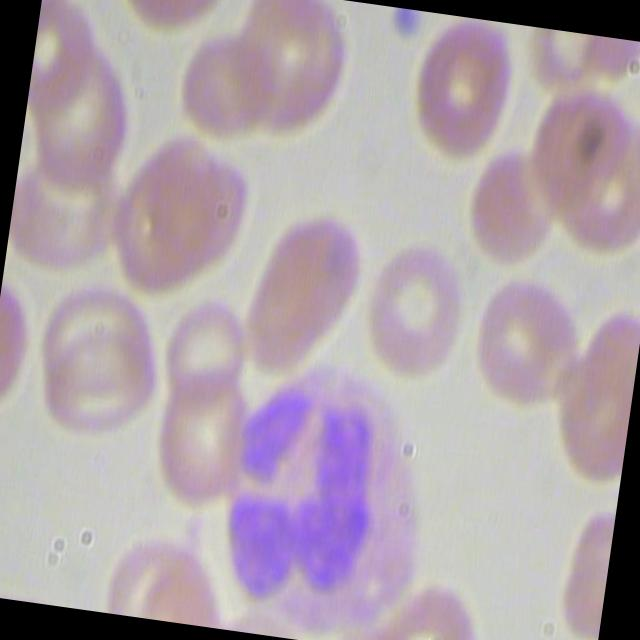RBC: (229, 197, 376, 396), (95, 119, 232, 300), (350, 232, 480, 400), (398, 10, 521, 168), (146, 355, 256, 517), (31, 316, 162, 448), (468, 272, 588, 413), (552, 298, 640, 490), (170, 9, 286, 146), (458, 133, 566, 274), (156, 290, 259, 404)
WBC: (199, 342, 450, 640)
